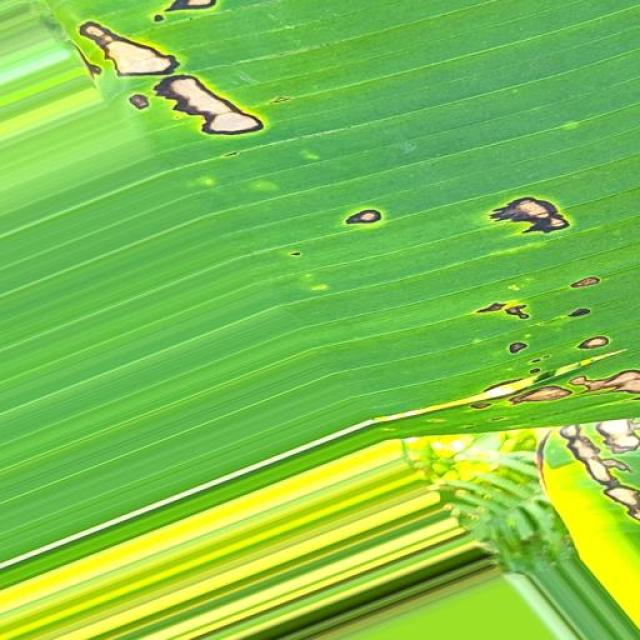Early_rust: (340, 190, 640, 448), (49, 0, 288, 157)
